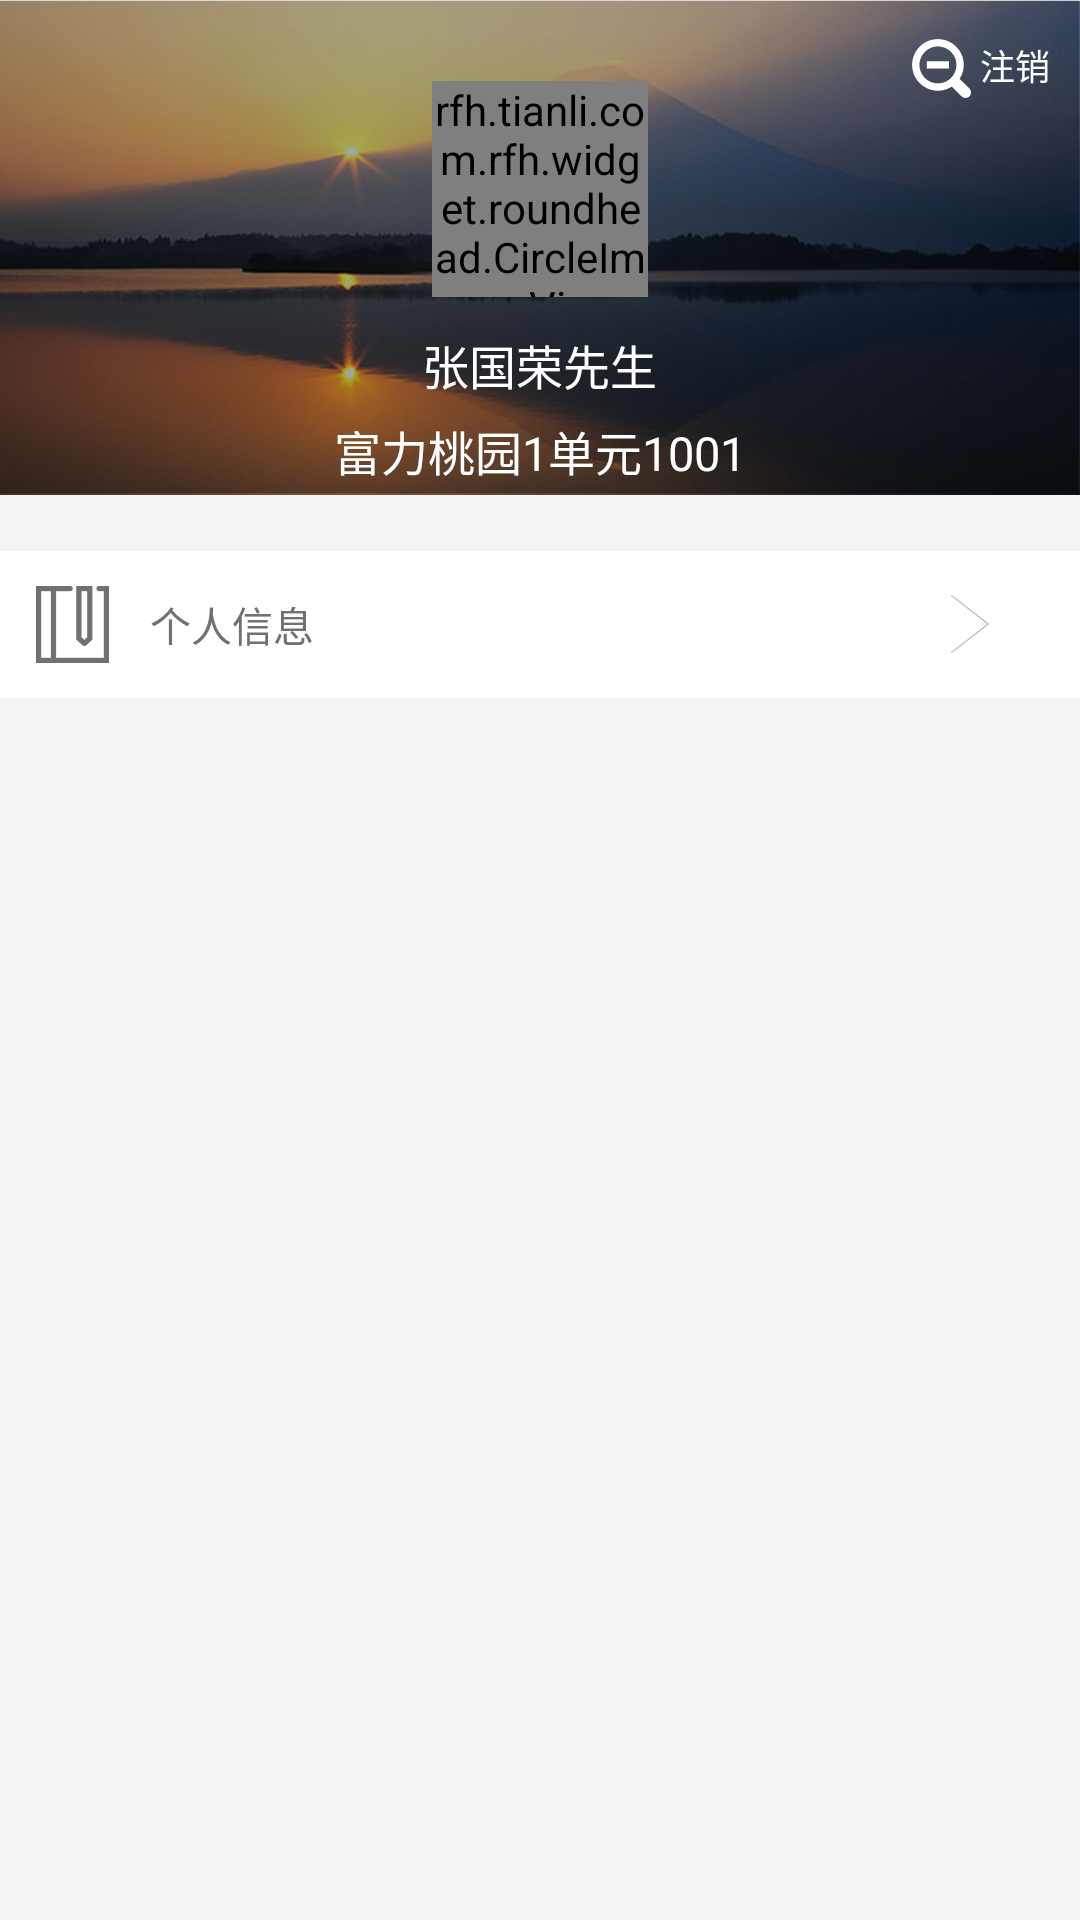

Locate icon controls on the screen. Image size 1080w x 1920h, boxes as {"left": x1, "top": y1, "right": x2, "bottom": y2}.
profile arrows: {"left": 951, "top": 595, "right": 989, "bottom": 653}
